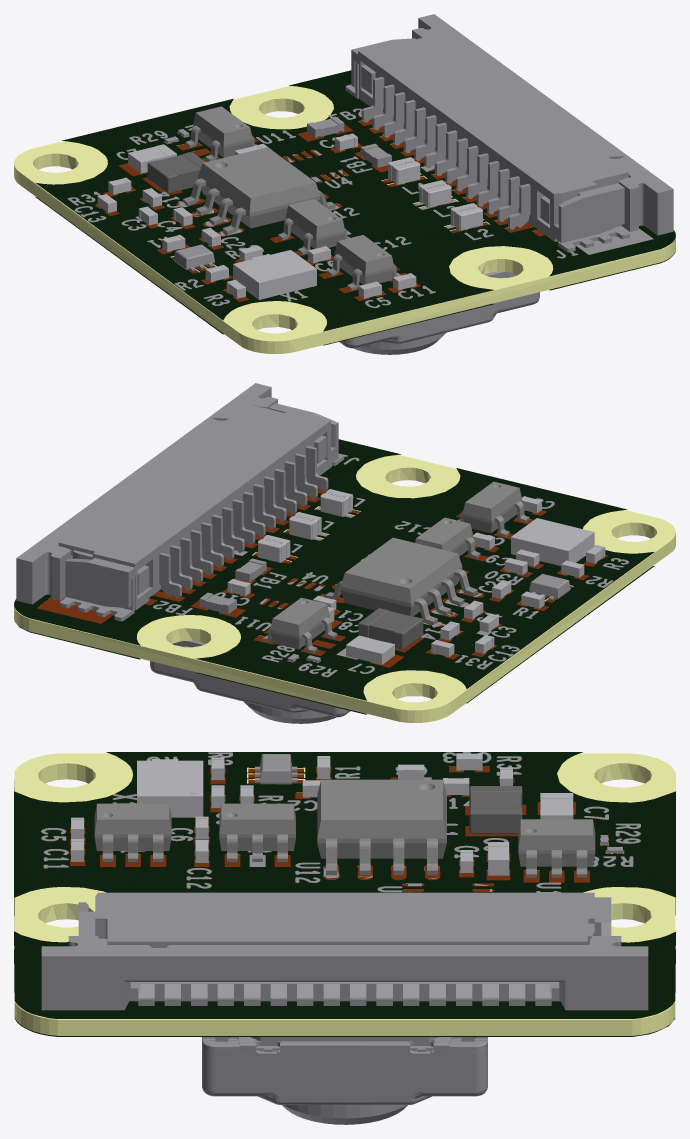
File: raspberry-pi-camera-3.glb
3 renders of one model, top to bottom at view 1: azimuth 30°, elevation 25°; view 2: azimuth 150°, elevation 25°; view 3: azimuth 270°, elevation 25°, orthographic. The views are drawn at different scales.
Visible parts, largest first — view 1: raspberry-pi-camera-3; view 2: raspberry-pi-camera-3; view 3: raspberry-pi-camera-3.
Boxes of the visible parts, bbox=[...] form: raspberry-pi-camera-3: bbox=[14, 14, 675, 354]; raspberry-pi-camera-3: bbox=[14, 383, 675, 723]; raspberry-pi-camera-3: bbox=[14, 752, 675, 1124].
Bounding box in the file's own units: 23.83 × 10.24 × 25.
